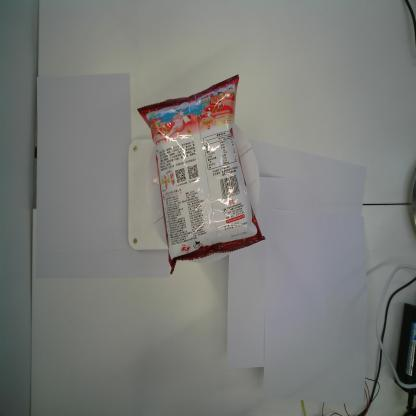Puffed Food: (137, 74, 265, 276)
